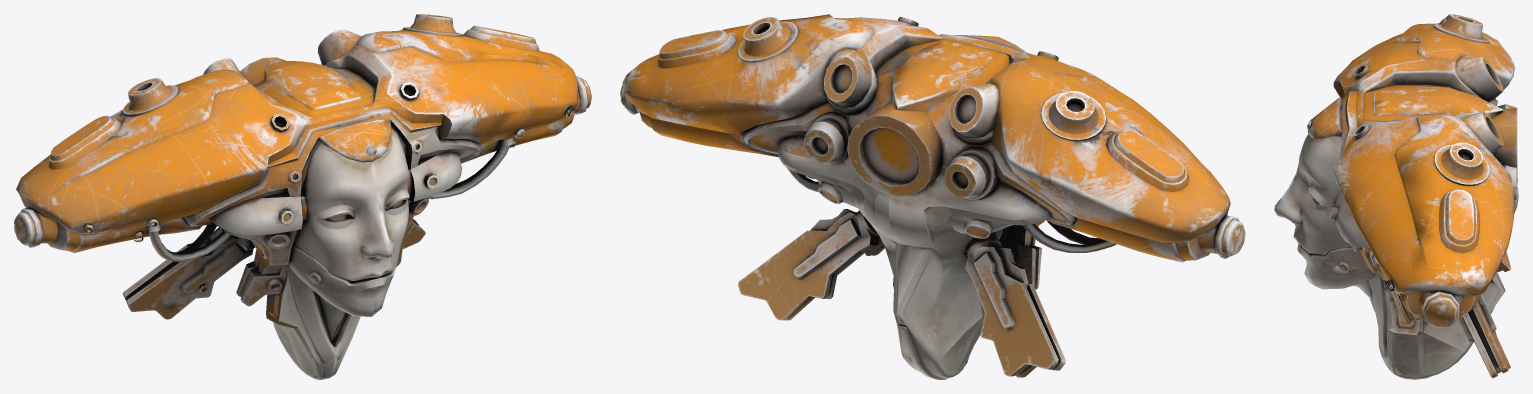
Rendered from sirena_.glb.
3 views of the same model, side by side, from view 1: azimuth 30°, elevation 25°; view 2: azimuth 150°, elevation 25°; view 3: azimuth 270°, elevation 25° (orthographic). The views are drawn at different scales.
Parts seen in each view (by area): view 1: cap old.005; view 2: cap old.005; view 3: cap old.005.
Boxes of the visible parts, x1,y1,x2,y2 form: cap old.005: [14, 14, 591, 379]; cap old.005: [620, 14, 1245, 379]; cap old.005: [1274, 14, 1518, 379].
Bounding box in the file's own units: 3.15 × 1.66 × 1.24.
Materials: 1 (1 with a texture image).
